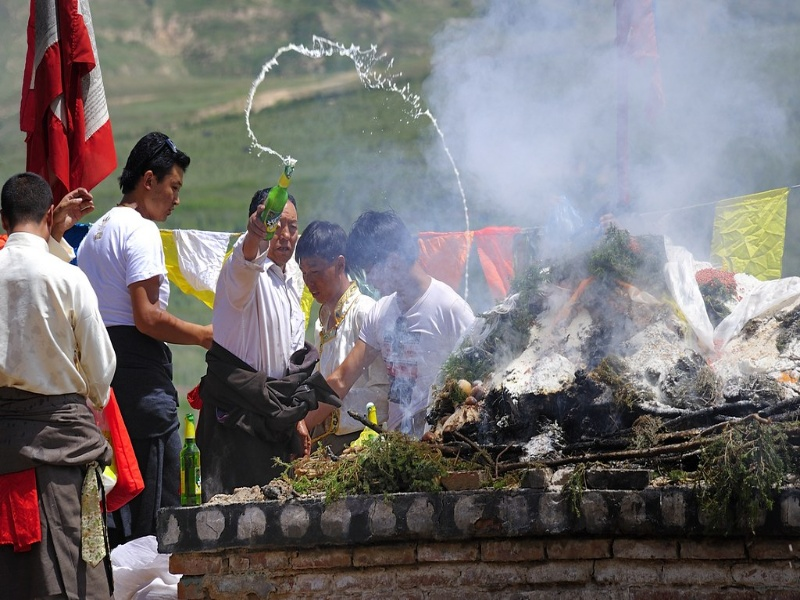smoke: (431, 3, 787, 233)
